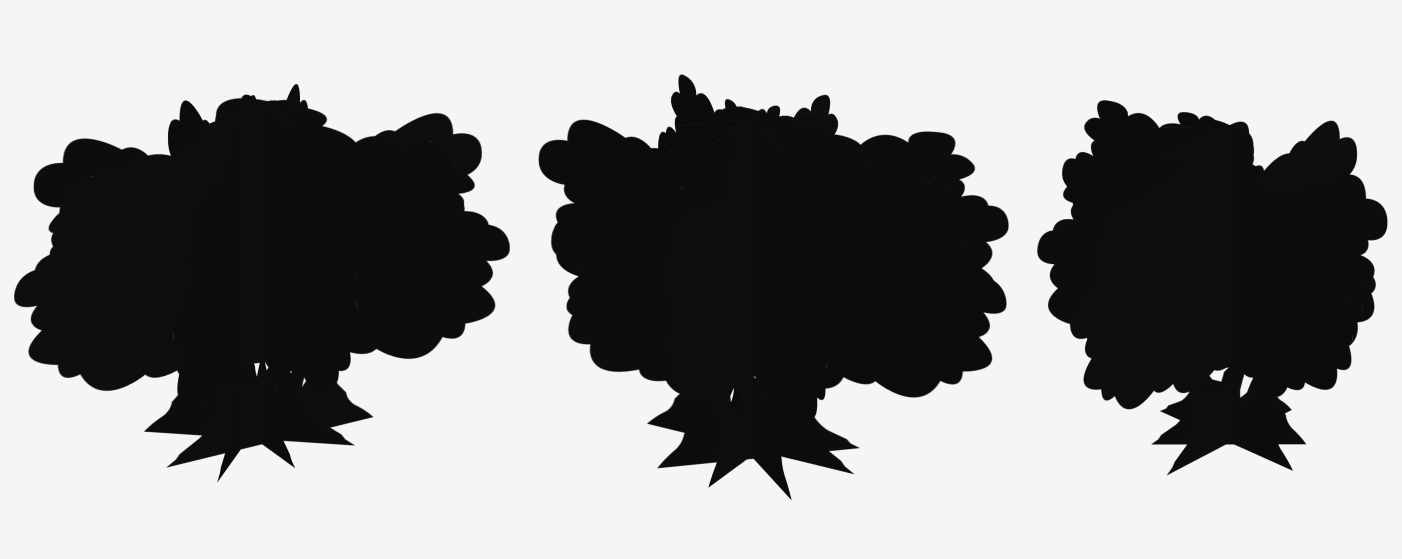
Rendered from BushTrunk.glb.
The picture shows the model from 3 angles, left to right: view 1: azimuth 30°, elevation 25°; view 2: azimuth 150°, elevation 25°; view 3: azimuth 270°, elevation 25°; orthographic projection. The views are drawn at different scales.
Visible parts, largest first — view 1: BushTrunk; view 2: BushTrunk; view 3: BushTrunk.
Part boxes in pixels (left/top/right/bottom): BushTrunk: left=14, top=84, right=509, bottom=482; BushTrunk: left=538, top=74, right=1008, bottom=499; BushTrunk: left=1037, top=100, right=1387, bottom=475.
Bounding box in the file's own units: 2.88 × 2 × 2.
Materials: 1 (1 with a texture image).
